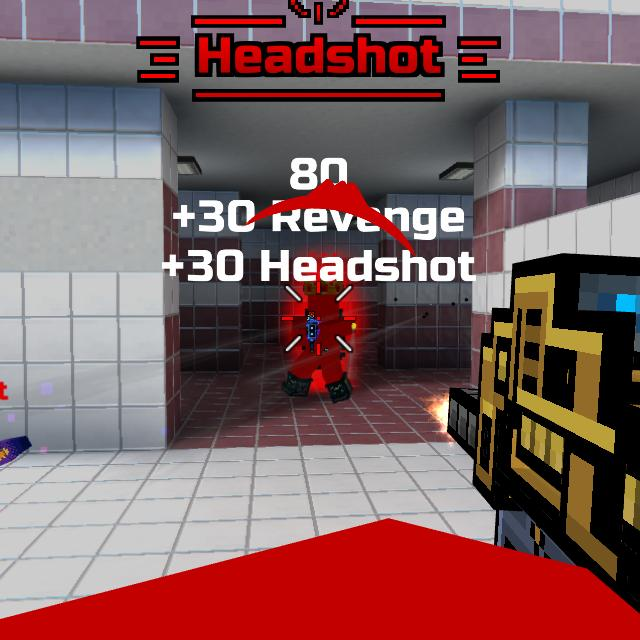Enemy: (288, 289, 356, 405)
